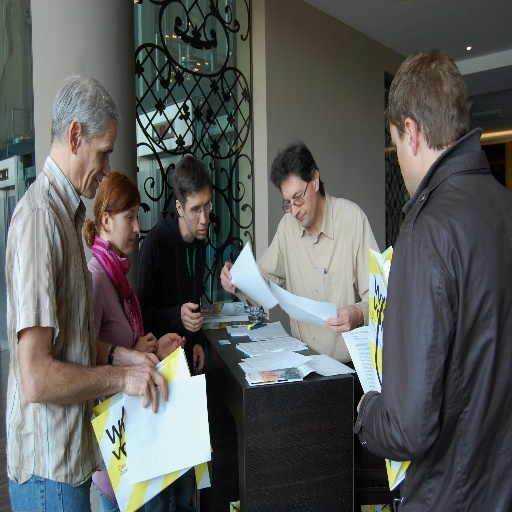hand: (110, 350, 159, 413), (323, 304, 358, 336), (155, 332, 186, 364), (123, 346, 160, 372), (180, 301, 204, 334), (219, 260, 236, 295), (135, 331, 158, 353), (190, 344, 205, 376)
